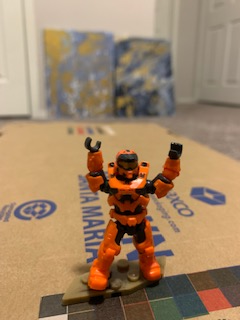spartan: (81, 135, 183, 292)
up: (83, 137, 184, 211)
